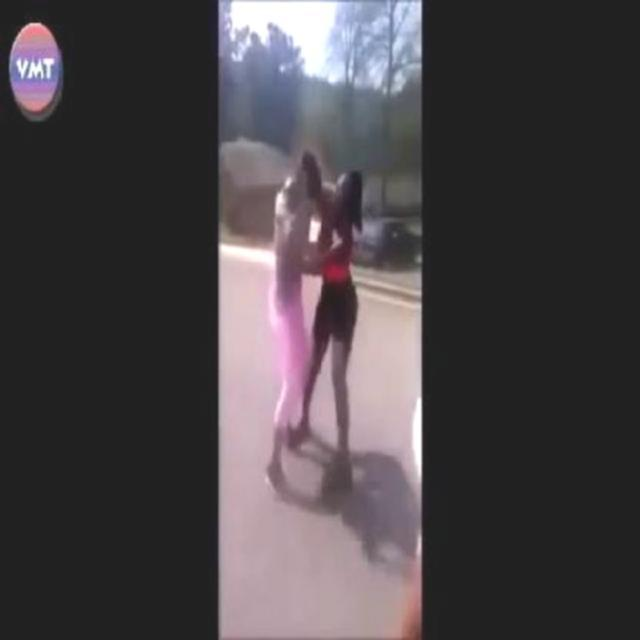fight: (270, 142, 359, 493)
